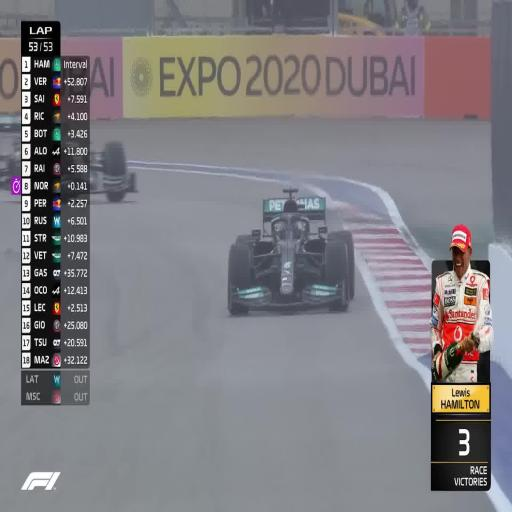f1_car: (227, 188, 354, 314), (60, 141, 137, 201), (0, 114, 21, 189), (63, 126, 63, 128)
